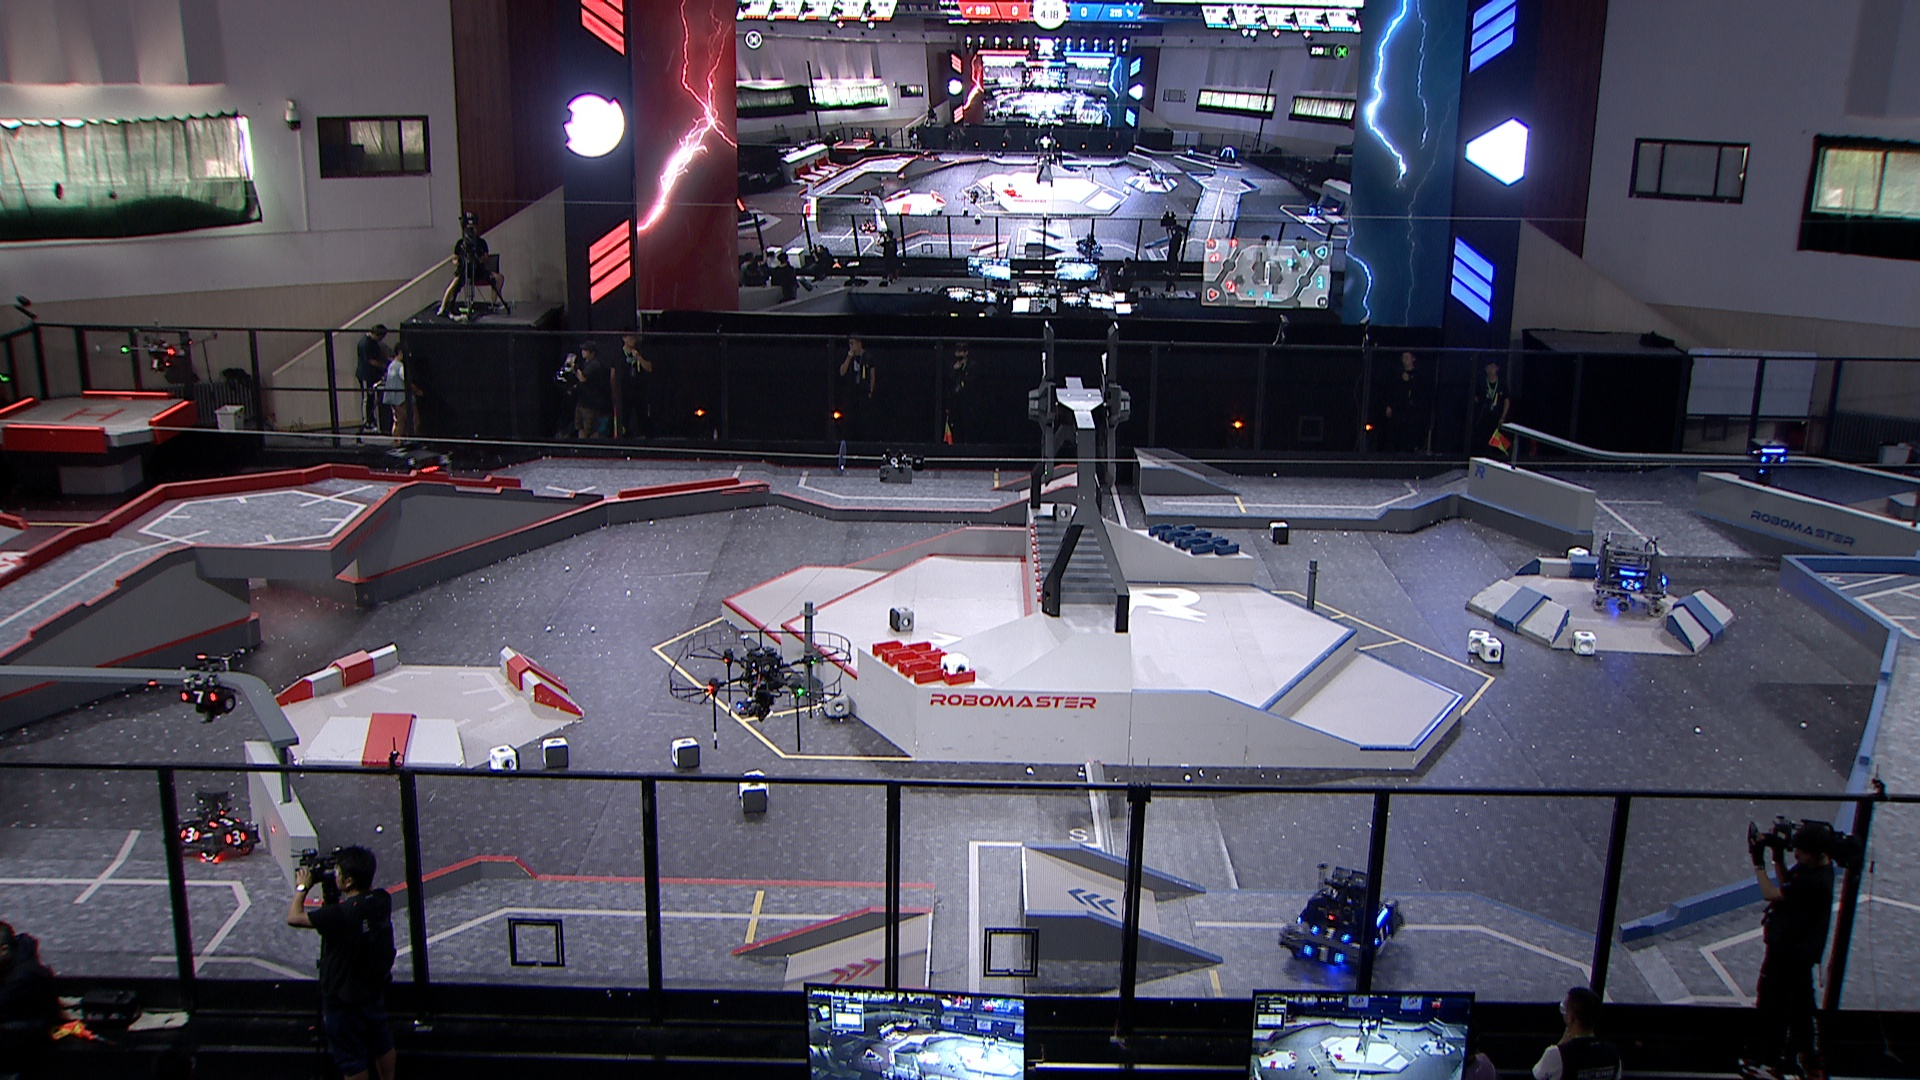armor: (1302, 943, 1346, 964), (1311, 924, 1352, 945), (178, 688, 218, 705), (179, 825, 204, 845), (223, 829, 249, 847), (208, 818, 243, 829), (1373, 924, 1391, 945), (1619, 578, 1642, 593), (1760, 455, 1788, 465)
car: (1275, 861, 1403, 978), (166, 787, 262, 864), (1592, 531, 1667, 618), (384, 448, 454, 516)
ignore: (1076, 233, 1106, 258), (736, 196, 754, 225), (1215, 146, 1238, 166), (1304, 200, 1324, 218), (858, 219, 878, 235), (858, 189, 874, 207), (1149, 167, 1164, 185), (1183, 149, 1196, 160)
watcher: (178, 651, 237, 727), (1749, 439, 1789, 483)
